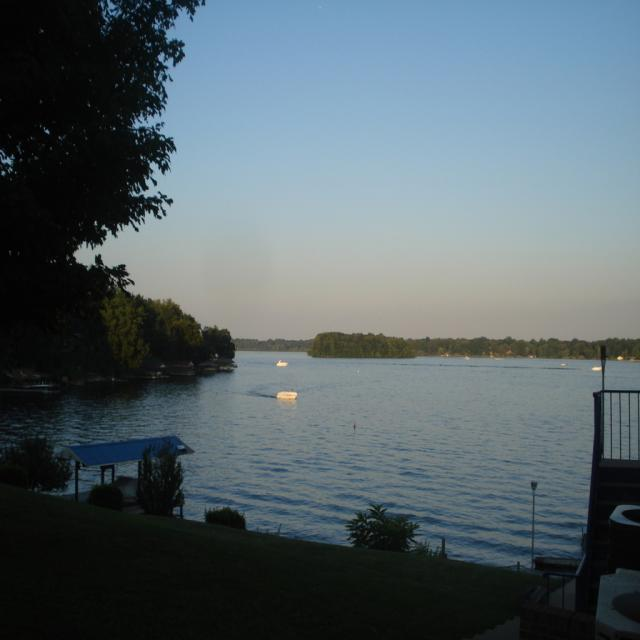Boat: (273, 387, 300, 402), (590, 364, 603, 371), (275, 360, 290, 366)
